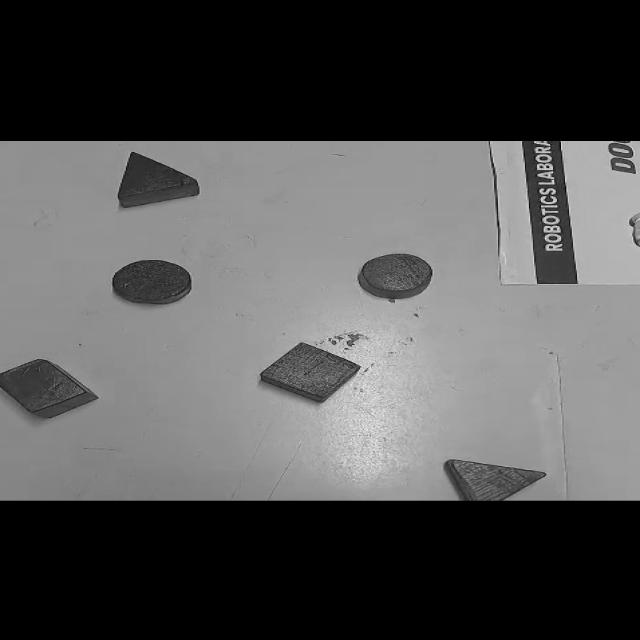bcircle: (111, 258, 193, 304)
bcube: (260, 341, 363, 403)
btriangle: (116, 152, 200, 208)
rcircle: (357, 252, 434, 299)
rcube: (0, 357, 99, 419)
rtriangle: (443, 458, 546, 502)
